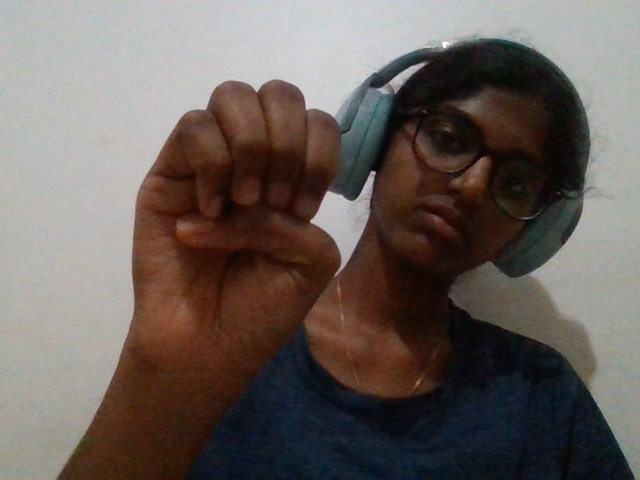E: (84, 61, 357, 426)
